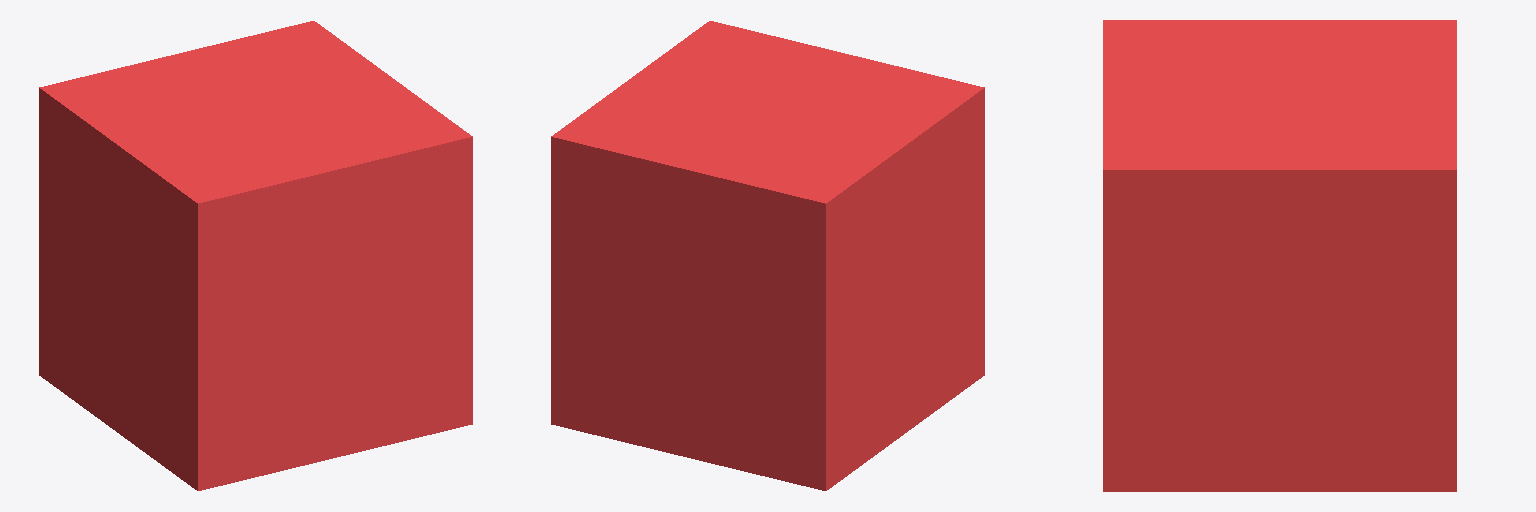
The robot description file, URDF, robot "box.urdf":
<?xml version="0.0" ?>
<robot name="box.urdf">
  <link name="baseLink">
    <contact>
      <lateral_friction value="1.0"/>
      <rolling_friction value="0.0001"/>
      <inertia_scaling value="3.0"/>
    </contact>
    <inertial>
      <origin rpy="0 0 0" xyz="0 0 0"/>
       <mass value=".01"/>
       <inertia ixx="1" ixy="0" ixz="0" iyy="1" iyz="0" izz="1"/>
    </inertial>
    <visual>
      <origin rpy="0 0 0" xyz="0 0 0"/>
      <geometry>
         <box size="0.04 0.04 0.04"/>
      </geometry>
      <material name="red">
        <color rgba="1 0.3412 0.3490 1"/>
      </material>
    </visual>
    <collision>
      <origin rpy="0 0 0" xyz="0 0 0"/>
      <geometry>
             <box size="0.04 0.04 0.04"/>
      </geometry>
    </collision>
  </link>
</robot>

--- What the picture shows (computed from the rendered views, not written in the file) ---
Views: 3 orthographic renders of the robot side by side, from view 1: azimuth 30°, elevation 25°; view 2: azimuth 150°, elevation 25°; view 3: azimuth 270°, elevation 25°.
Robot: box.urdf — 1 links, 0 joints (none); root link baseLink; default pose: every joint at zero.
Links seen in each view (by area): view 1: baseLink; view 2: baseLink; view 3: baseLink.
Link boxes in pixels (<box>): baseLink: <box>39,21,472,490</box>; baseLink: <box>551,21,984,490</box>; baseLink: <box>1103,20,1456,491</box>.
Size in the robot's own frame: 0.04 by 0.04 by 0.04 metres.
Geometry: primitives only (box / cylinder / sphere), no mesh files.